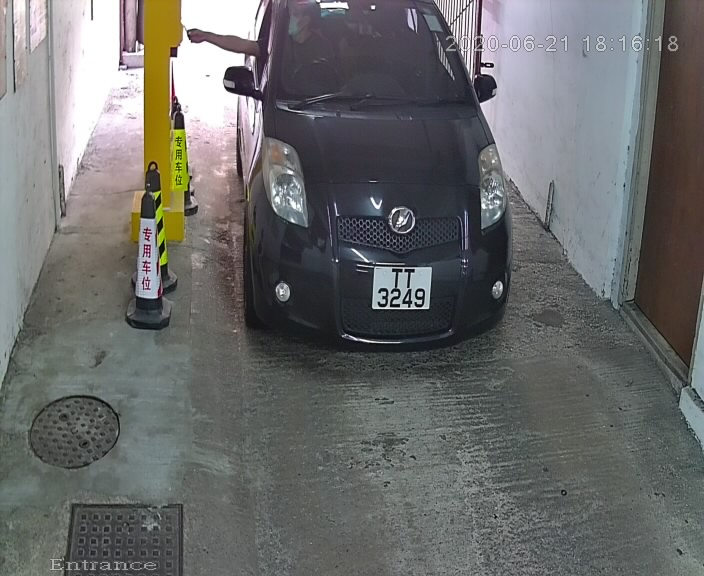privatecar: (222, 1, 532, 361)
